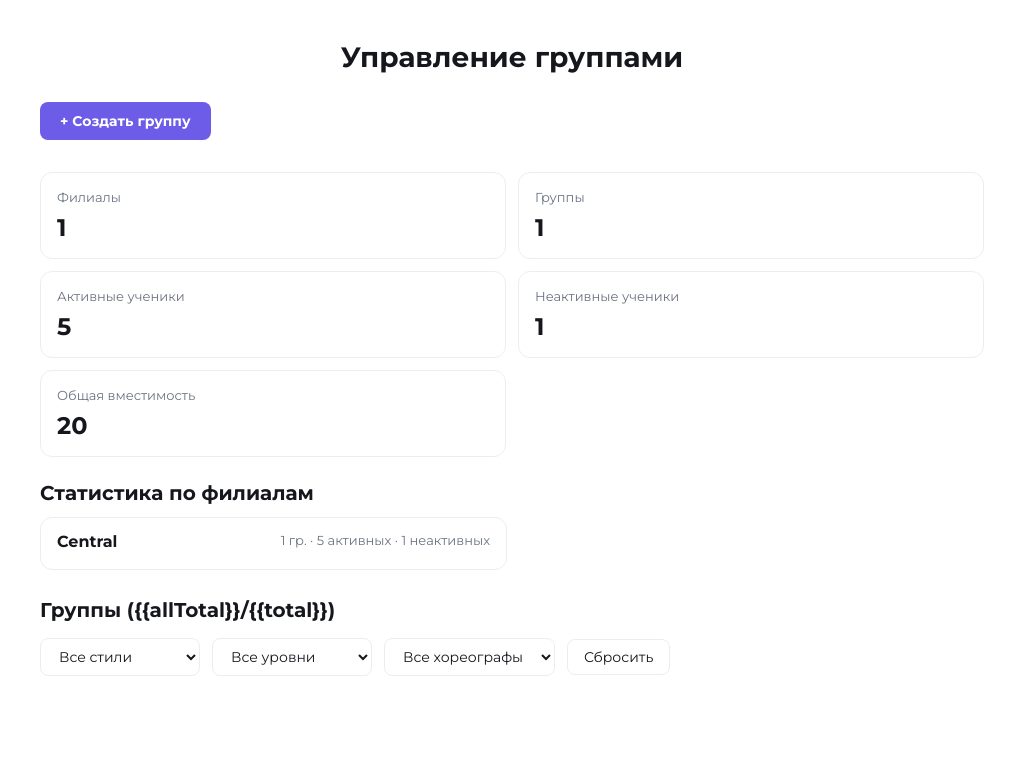
Test case: ScheduleSettingsPage › opens the create-group modal
The width and height of the screenshot is (1024, 768).
Step 1. Click the button "+ Создать группу" → x=125, y=121, box top-left (40, 102), bottom-right (210, 140)
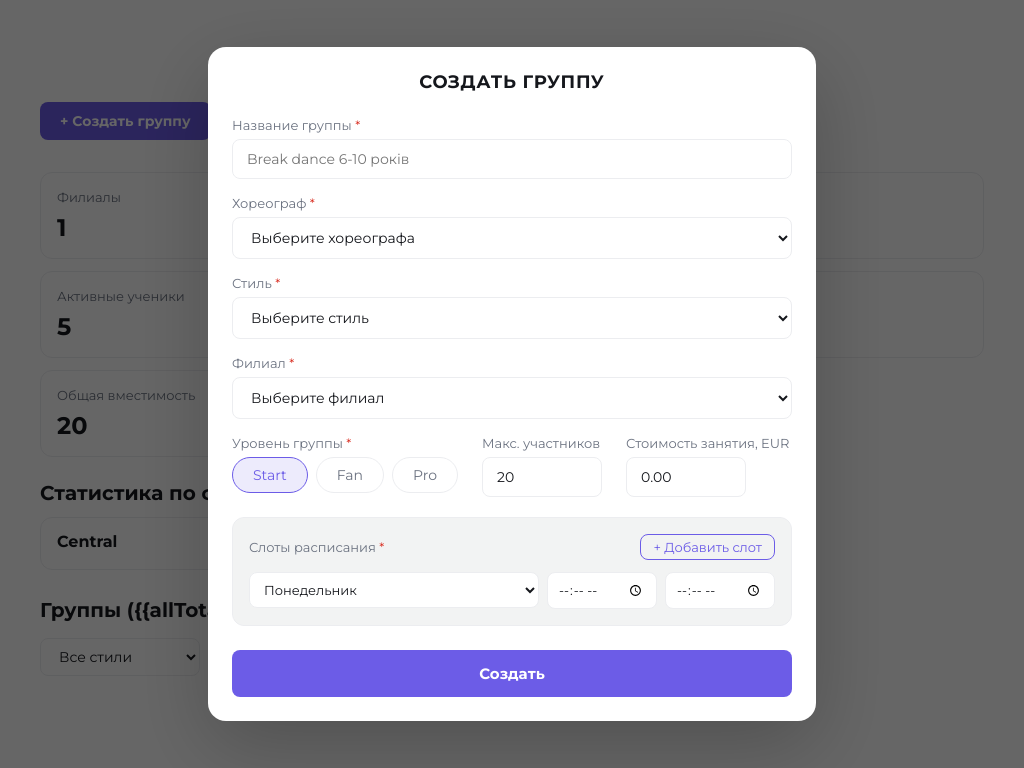
expect the heading "СОЗДАТЬ ГРУППУ" is shown: met, box top-left (419, 71), bottom-right (605, 93)
